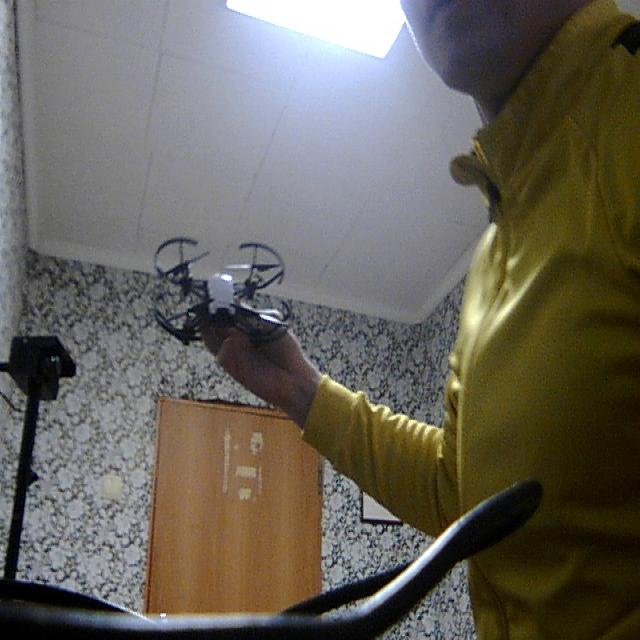drone: (139, 221, 306, 366)
